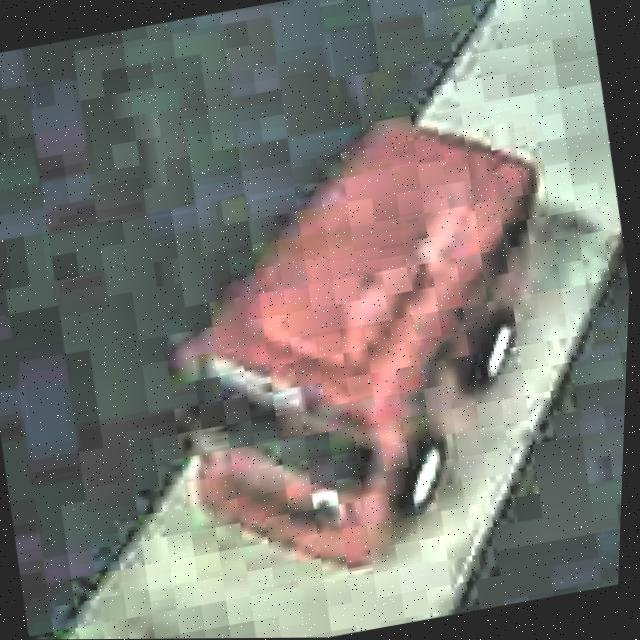bus: (135, 89, 603, 599)
